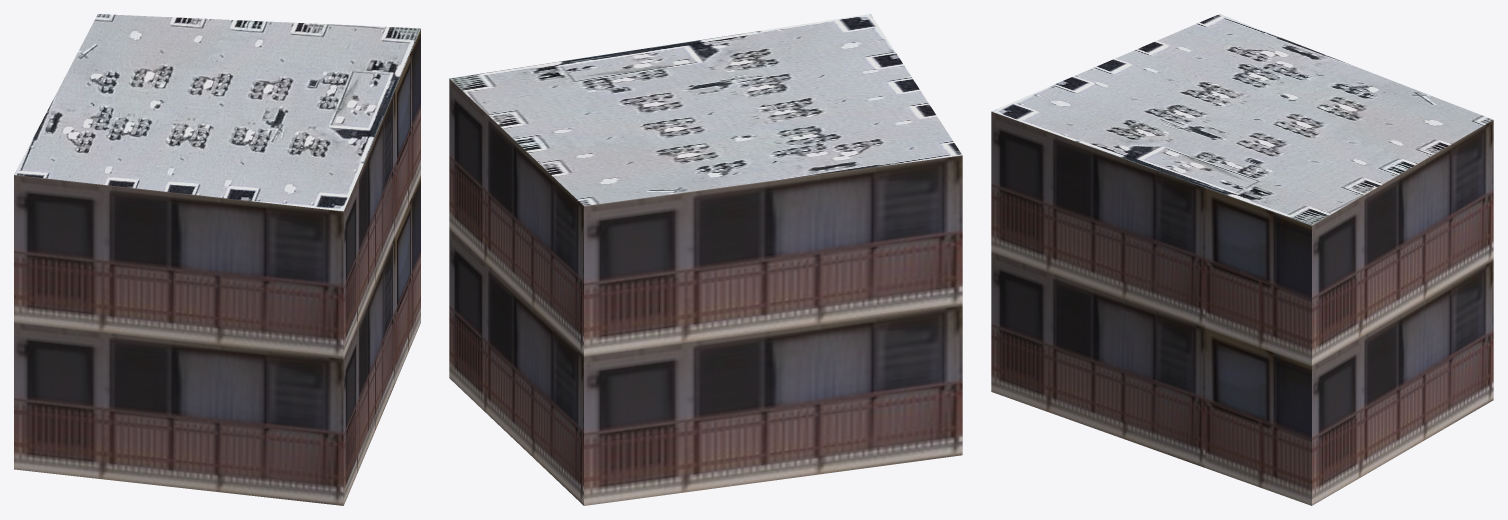
The model's file is ResTex__3511.fbx.
3 views of the same model, side by side, from view 1: azimuth 30°, elevation 25°; view 2: azimuth 150°, elevation 25°; view 3: azimuth 270°, elevation 25° (orthographic). The views are drawn at different scales.
Visible parts, largest first — view 1: CityEngineMaterial_6_m, CityEngineMaterial_4_m; view 2: CityEngineMaterial_6_m, CityEngineMaterial_4_m; view 3: CityEngineMaterial_6_m, CityEngineMaterial_4_m.
Boxes of the visible parts, <box> form: CityEngineMaterial_6_m: <box>14,29,420,505</box>; CityEngineMaterial_4_m: <box>14,14,420,211</box>; CityEngineMaterial_6_m: <box>449,78,962,505</box>; CityEngineMaterial_4_m: <box>450,14,961,205</box>; CityEngineMaterial_6_m: <box>991,111,1493,505</box>; CityEngineMaterial_4_m: <box>991,14,1493,225</box>.
Size of the model in its own units: 9.71 by 6 by 9.74.
2 materials, 2 textured.
